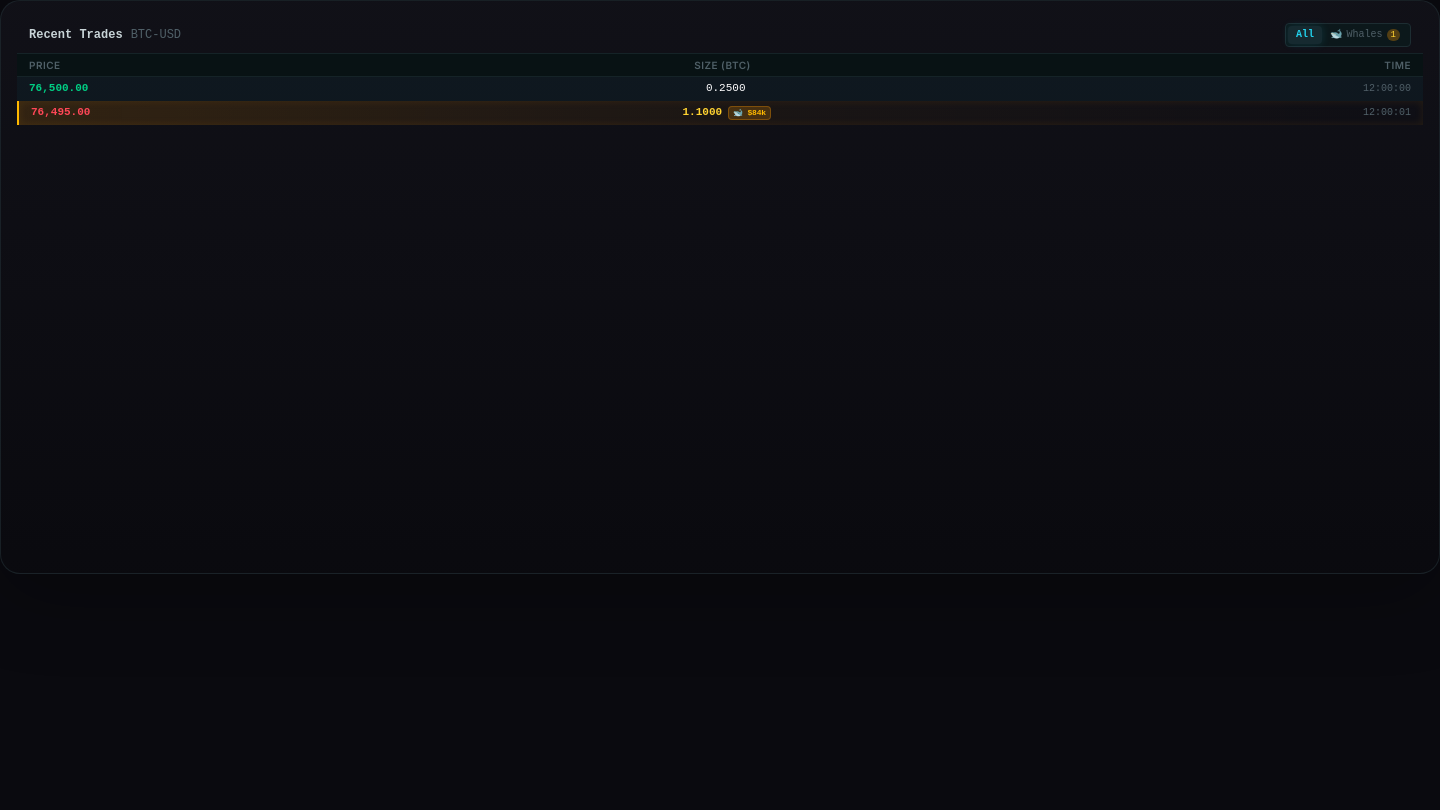
Test: RecentTrades › filters for institutional whale trades when toggled
Note: Toggle to Whales
Click the button "🐋 Whales 1": (1365, 35) [1322,26,1408,44]
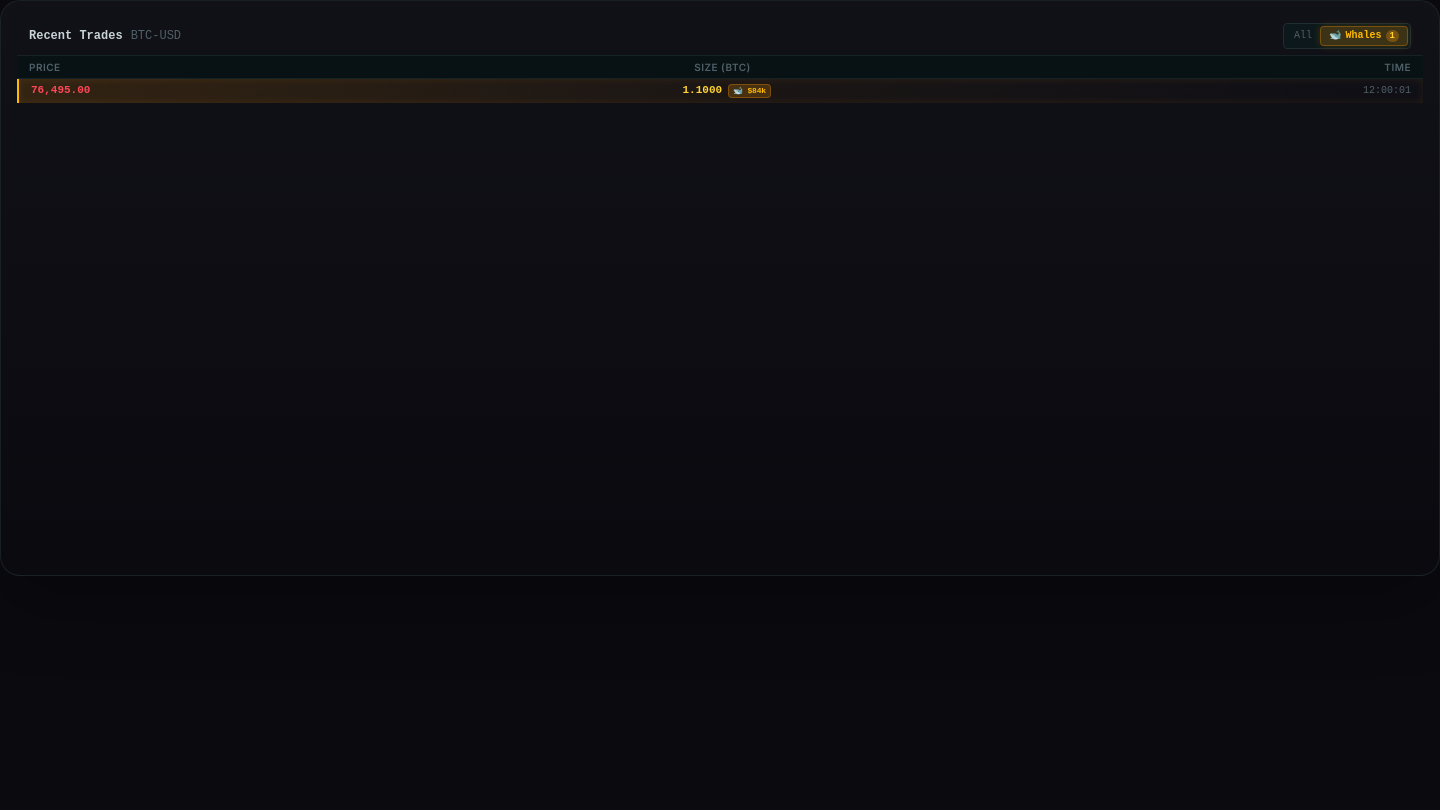
expect the text "76,495.00" is shown: met, box [31,83,90,99]
expect the button "76,500.00" is gone: met
